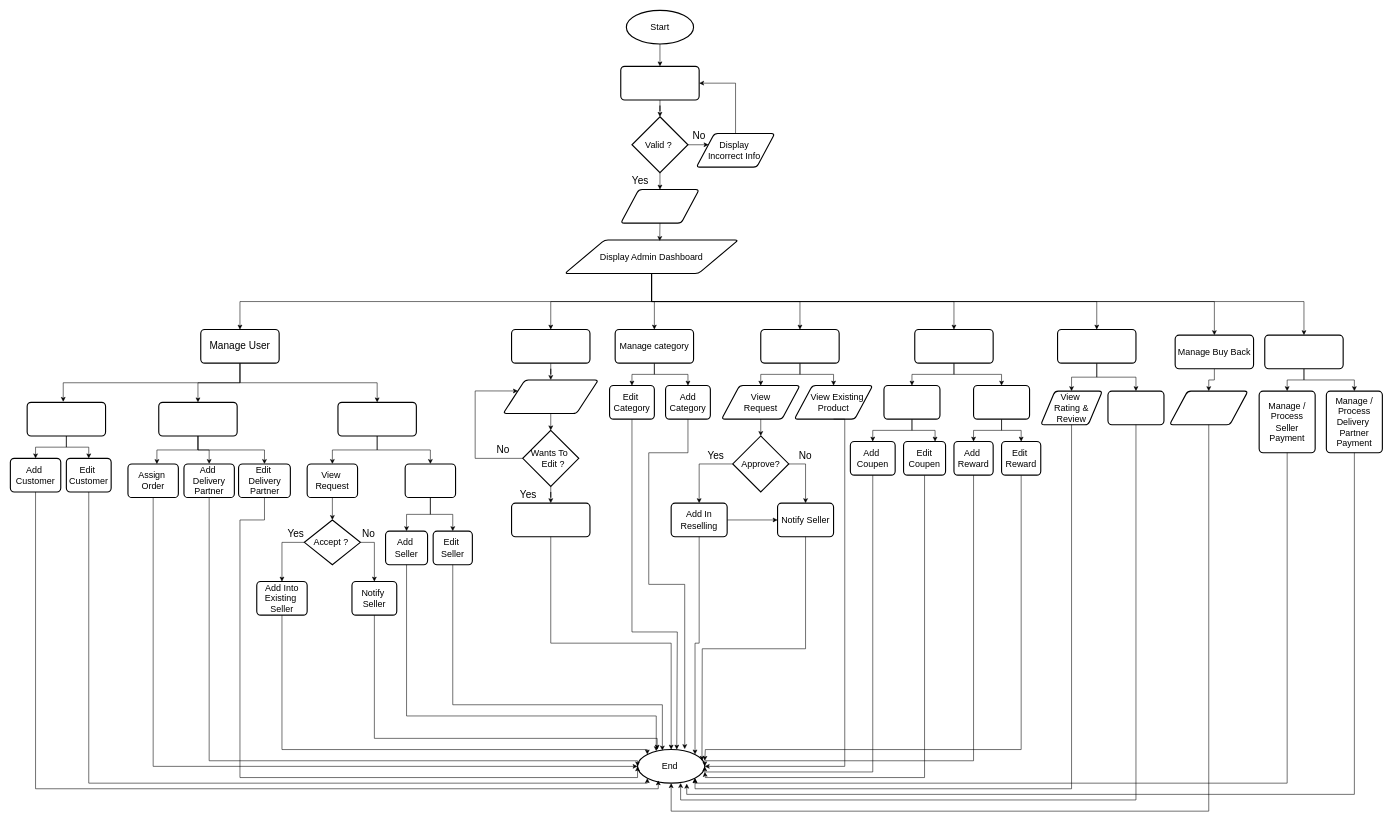
Some shapes in this 1392 by 825 pixel diagram are drawn without their labels. The centre of each missing label's shape, as x and y in pixels:
Display Successfully: the point at 659,206
Edit Profile: the point at 550,519
Login: the point at 659,83
Manage Coupen: the point at 911,402
Manage Customer: the point at 66,419
Manage Delivery Partner: the point at 197,419
Manage Payment: the point at 1303,351
Manage Profile: the point at 550,346
Manage Rating & Review: the point at 1096,346
Manage Reselling: the point at 799,346
Manage Reward: the point at 1001,402
Manage Seller: the point at 377,419
Manage Spin To Win: the point at 953,346
Remove Rating & Review: the point at 1135,407
View Back Request: the point at 1208,407
View Existing Seller: the point at 430,480
View Profile: the point at 550,396
